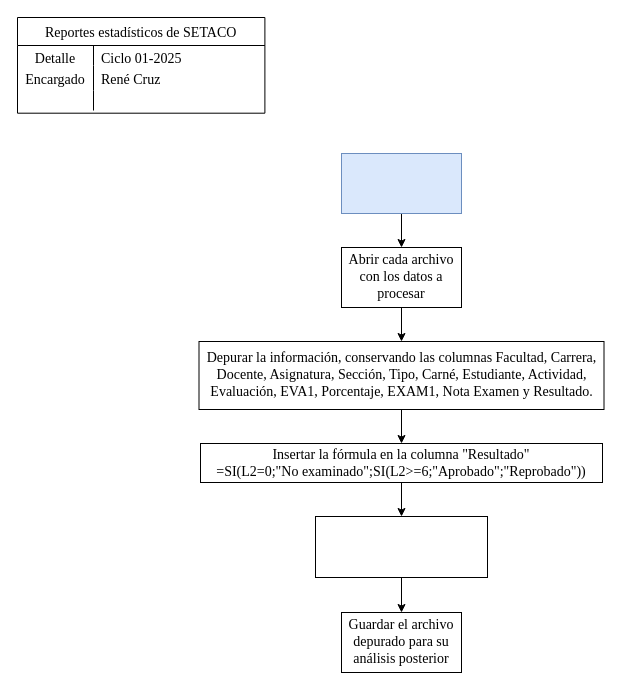
Some shapes in this 622 by 690 pixel diagram are drawn without their labels. Each missing label, with the centre of its shape:
Pruebas de salidas - Procesamiento de Archivos: [401,183]
Verificar que la columna se aplique correctamente a todos los registros: [401,547]
